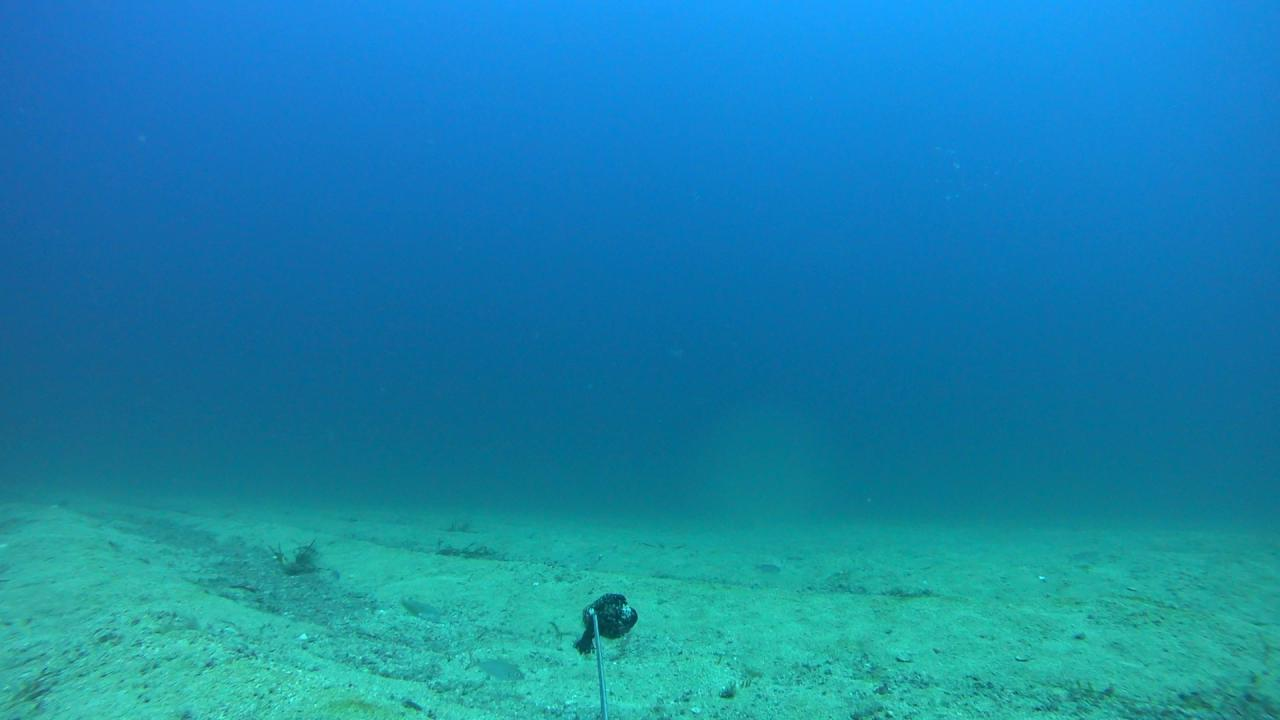pagellus: (464, 653, 524, 681), (400, 592, 440, 624), (755, 562, 781, 576)
